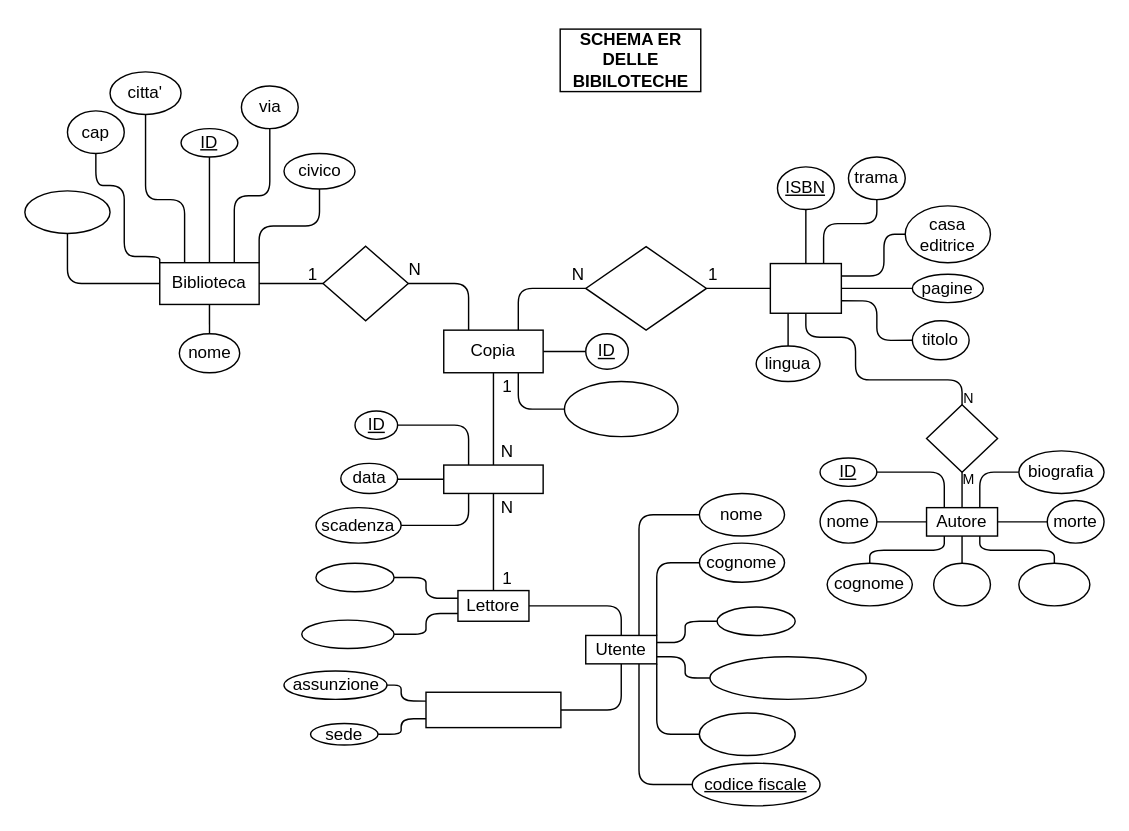
This 1129x831 diagram has some shape labels left out. The shapes that lost their labels are listed below. From the top down, each one's centre as x and y in pixels, then its label:
[66,211]: provincia
[365,283]: Contiene
[645,287]: Rappresenta
[805,287]: Libro
[620,408]: disponibile
[961,437]: Scritto
[492,478]: Prestito
[354,577]: ritardi
[961,584]: paese
[1053,584]: nascita
[347,634]: categoria
[755,620]: email
[787,677]: data_registrazione
[493,709]: Bibliotecario
[746,734]: password
